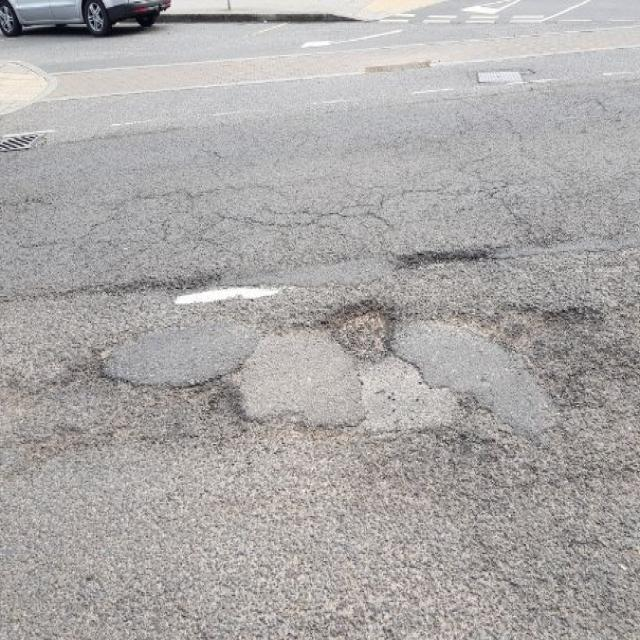pothole: (468, 292, 604, 356), (167, 368, 260, 438), (322, 294, 399, 362), (396, 240, 502, 274)
